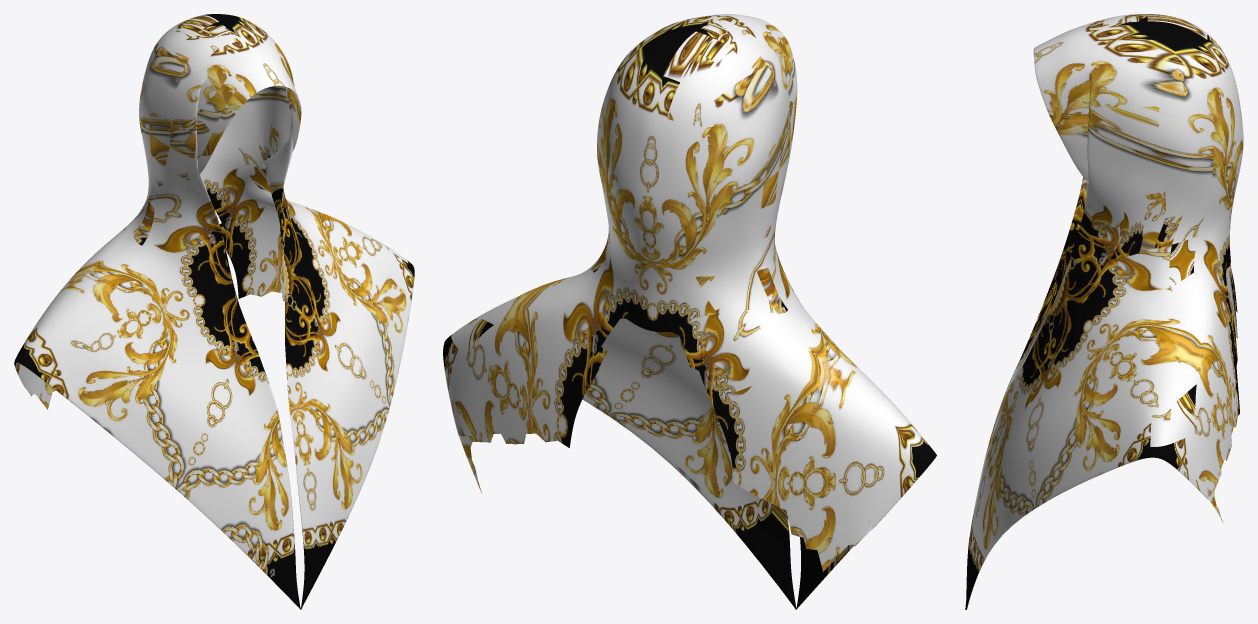
The model's file is scarf3.glb.
The picture shows the model from 3 angles, left to right: view 1: azimuth 30°, elevation 25°; view 2: azimuth 150°, elevation 25°; view 3: azimuth 270°, elevation 25°; orthographic projection. The views are drawn at different scales.
Parts seen in each view (by area): view 1: Cube; view 2: Cube; view 3: Cube.
Part boxes in pixels (x1,y1,x2,y2): Cube: (14, 14, 414, 609); Cube: (443, 14, 936, 609); Cube: (965, 14, 1243, 609).
Size of the model in its own units: 0.3683 by 0.47 by 0.2014.
Materials: 1 (1 with a texture image).
